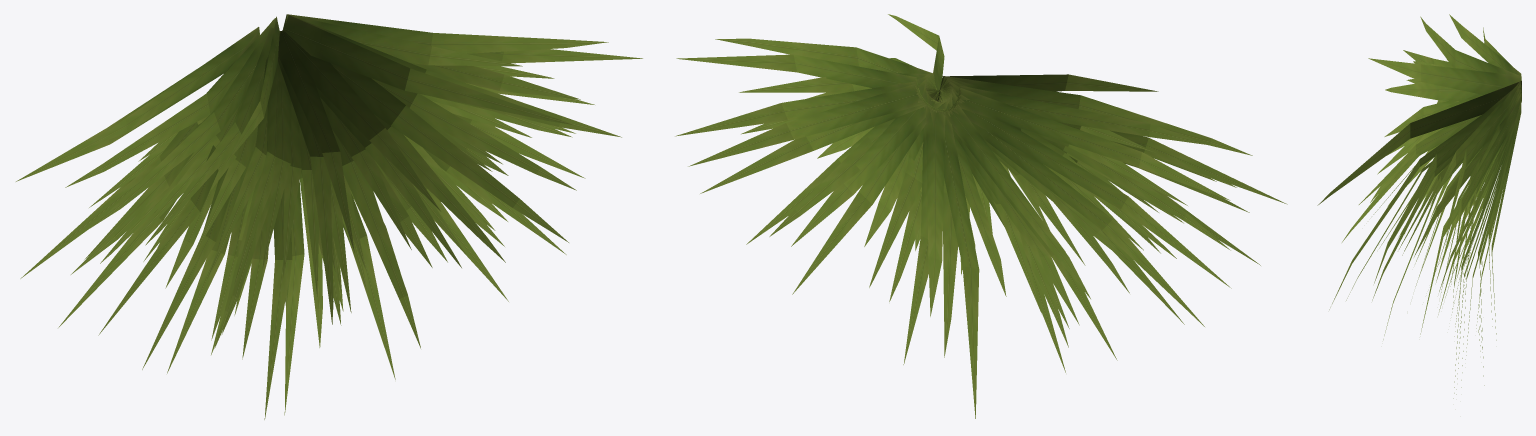
File: grass_clump_1.obj
3 views of the same model, side by side, from view 1: azimuth 30°, elevation 25°; view 2: azimuth 150°, elevation 25°; view 3: azimuth 270°, elevation 25° (orthographic). The views are drawn at different scales.
Bounding box in the file's own units: 0.876 × 0.5088 × 0.29.
Materials: 1 (1 with a texture image).
